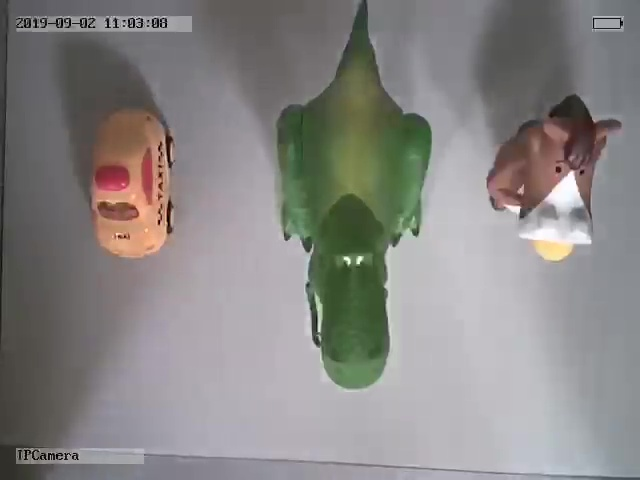car: (89, 108, 177, 260)
horse: (486, 95, 621, 262)
rex: (275, 3, 434, 389)
